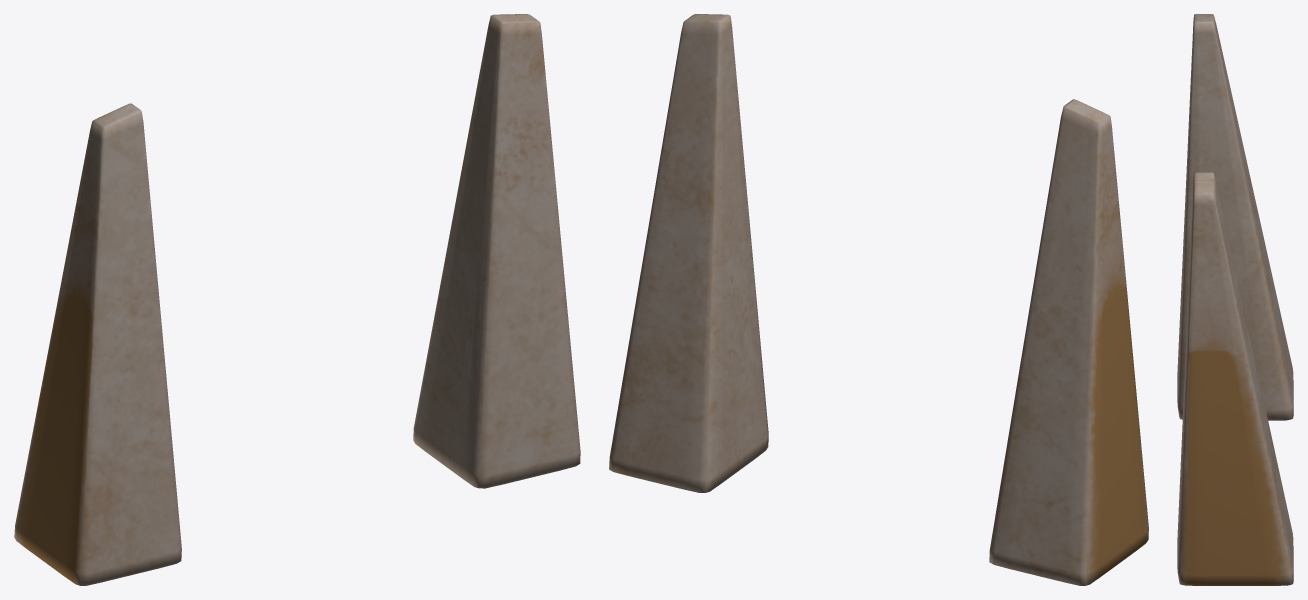
The model's file is gate.fbx.
3 renders of one model, left to right at view 1: azimuth 30°, elevation 25°; view 2: azimuth 150°, elevation 25°; view 3: azimuth 270°, elevation 25°, orthographic. The views are drawn at different scales.
Visible parts, largest first — view 1: gate; view 2: gate; view 3: gate.
Boxes of the visible parts, x1,y1,x2,y2 form: gate: [14, 14, 580, 585]; gate: [609, 14, 1148, 585]; gate: [1177, 14, 1293, 585].
Bounding box in the file's own units: 2307 × 1989 × 543.
Materials: 1 (1 with a texture image).
